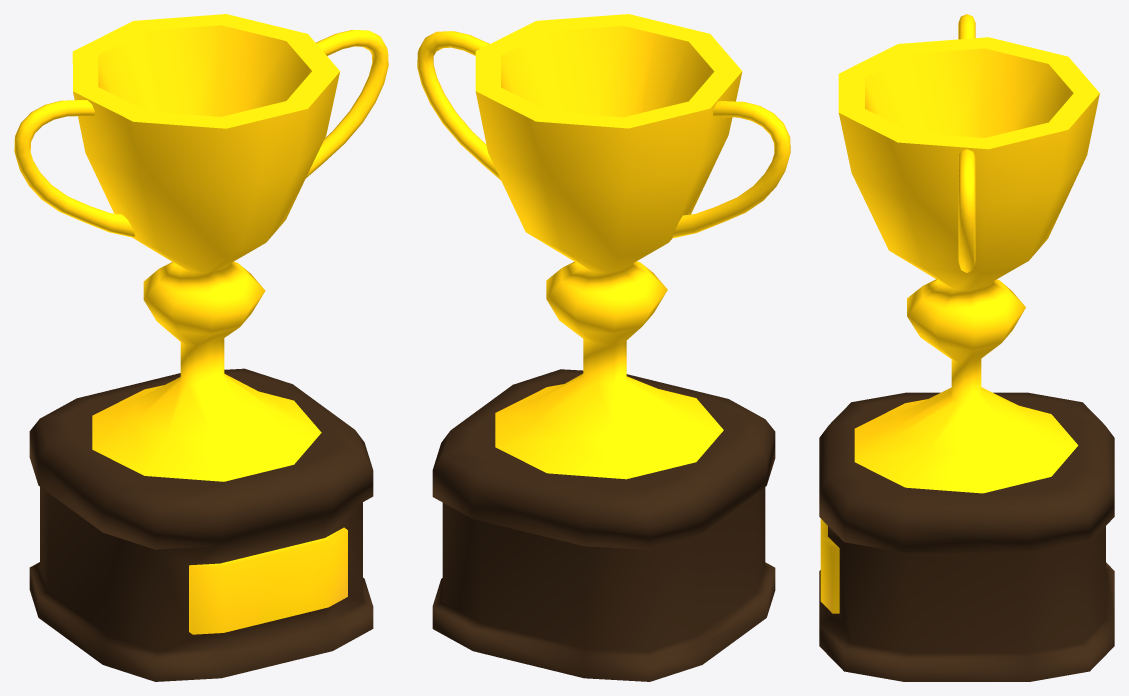
Rendered from TrophyGold.glb.
The picture shows the model from 3 angles, left to right: view 1: azimuth 30°, elevation 25°; view 2: azimuth 150°, elevation 25°; view 3: azimuth 270°, elevation 25°; orthographic projection. The views are drawn at different scales.
Visible parts, largest first — view 1: TrophyGold; view 2: TrophyGold; view 3: TrophyGold.
Part boxes in pixels (x1,y1,x2,y2): TrophyGold: (14, 14, 388, 681); TrophyGold: (417, 14, 790, 681); TrophyGold: (819, 14, 1114, 681).
Size of the model in its own units: 0.6683 by 0.9302 by 0.47.
2 materials, 2 textured.
